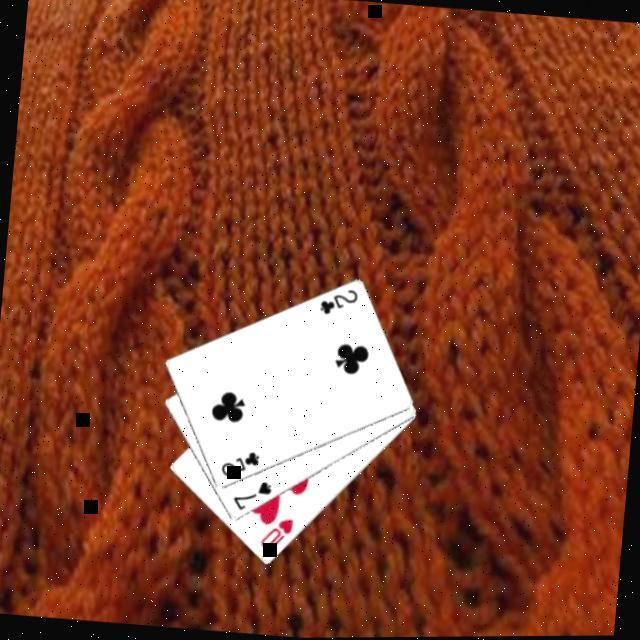10H: (253, 511, 294, 556)
2C: (214, 444, 260, 480), (314, 282, 358, 318)
7S: (227, 474, 273, 514)
